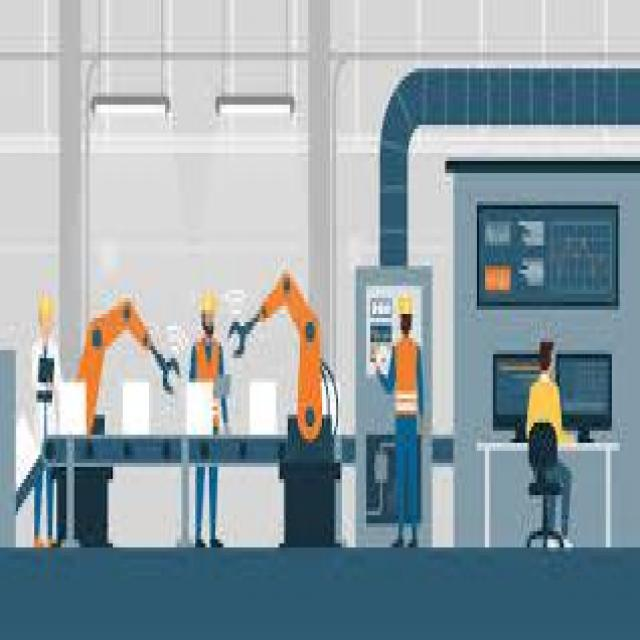Reflective-Jacket: (392, 334, 420, 419)
Safety-Helmet: (196, 278, 223, 326), (392, 286, 417, 318)
